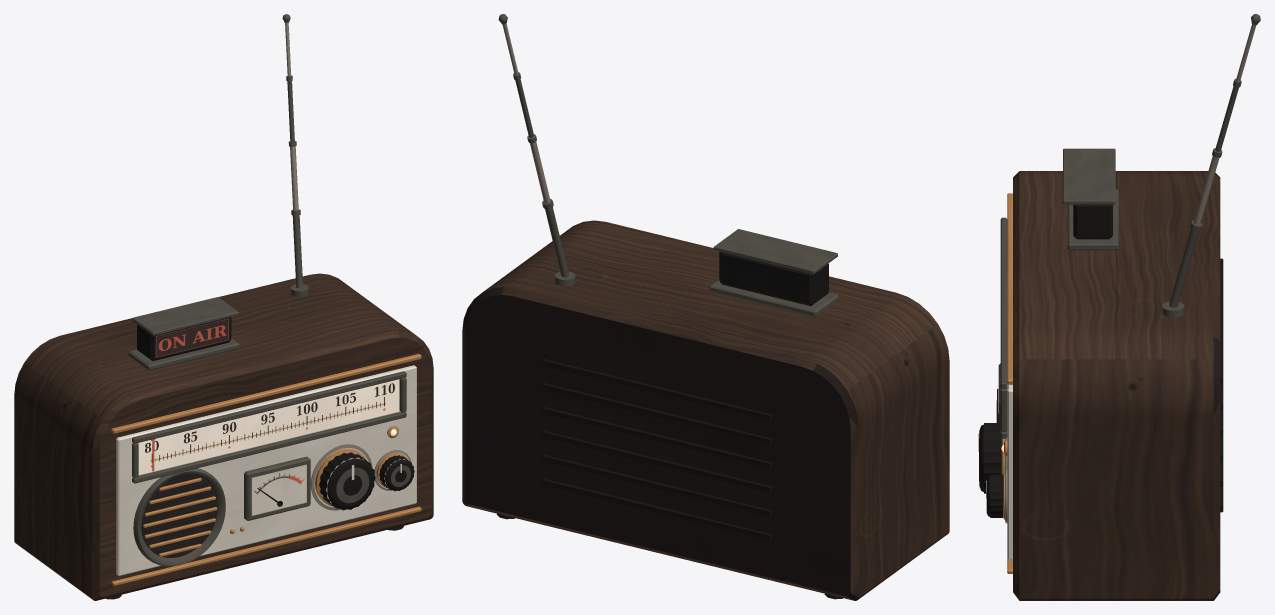
Rendered from radio-rig.glb.
The picture shows the model from 3 angles, left to right: view 1: azimuth 30°, elevation 25°; view 2: azimuth 150°, elevation 25°; view 3: azimuth 270°, elevation 25°; orthographic projection. The views are drawn at different scales.
Parts seen in each view (by area): view 1: radio, dial-window, on-air-lamp, tuning-knob, vu-meter, antenna, volume-knob; view 2: radio, on-air-lamp, antenna; view 3: radio, on-air-lamp, antenna, tuning-knob, volume-knob.
Boxes of the visible parts, x1=… form: radio: x1=14, y1=273, x2=433, y2=600; dial-window: x1=138, y1=379, x2=399, y2=474; on-air-lamp: x1=128, y1=297, x2=239, y2=370; tuning-knob: x1=315, y1=448, x2=375, y2=510; vu-meter: x1=251, y1=464, x2=306, y2=515; antenna: x1=282, y1=14, x2=302, y2=288; volume-knob: x1=376, y1=453, x2=414, y2=491; radio: x1=462, y1=220, x2=949, y2=600; on-air-lamp: x1=709, y1=229, x2=838, y2=316; antenna: x1=498, y1=14, x2=568, y2=277; radio: x1=998, y1=171, x2=1223, y2=600; on-air-lamp: x1=1063, y1=148, x2=1118, y2=250; antenna: x1=1169, y1=14, x2=1260, y2=307; tuning-knob: x1=978, y1=423, x2=1004, y2=493; volume-knob: x1=986, y1=473, x2=1004, y2=519.
Bounding box in the file's own units: 0.52 × 0.6632 × 0.2993.
Materials: 4 (4 with a texture image).
